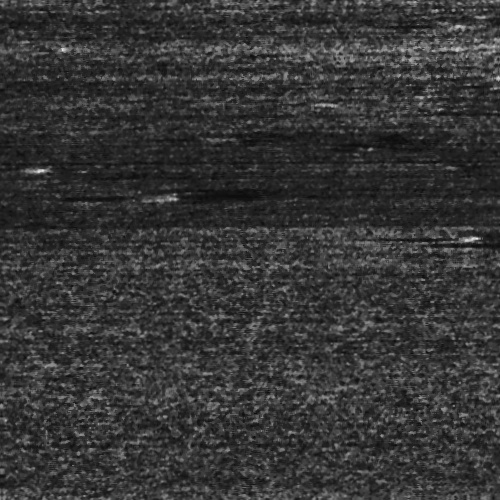object: (120, 193, 183, 198), (0, 163, 53, 168), (450, 235, 491, 238)
shadow: (457, 239, 500, 248), (384, 235, 470, 238), (105, 193, 151, 198), (481, 106, 500, 113), (0, 163, 26, 168)
